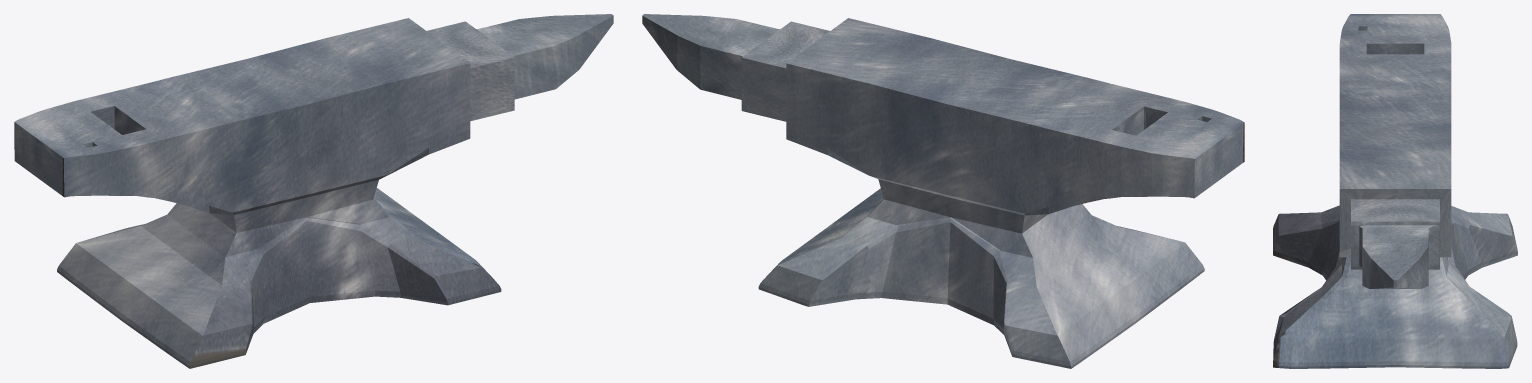
Rendered from anvil_model.glb.
3 views of the same model, side by side, from view 1: azimuth 30°, elevation 25°; view 2: azimuth 150°, elevation 25°; view 3: azimuth 270°, elevation 25° (orthographic). The views are drawn at different scales.
Visible parts, largest first — view 1: Object_2; view 2: Object_2; view 3: Object_2.
Boxes of the visible parts, <box> form: Object_2: <box>14,14,613,368</box>; Object_2: <box>642,14,1244,368</box>; Object_2: <box>1273,14,1517,368</box>.
Bounding box in the file's own units: 5.52 × 1.87 × 2.26.
Materials: 1 (1 with a texture image).
